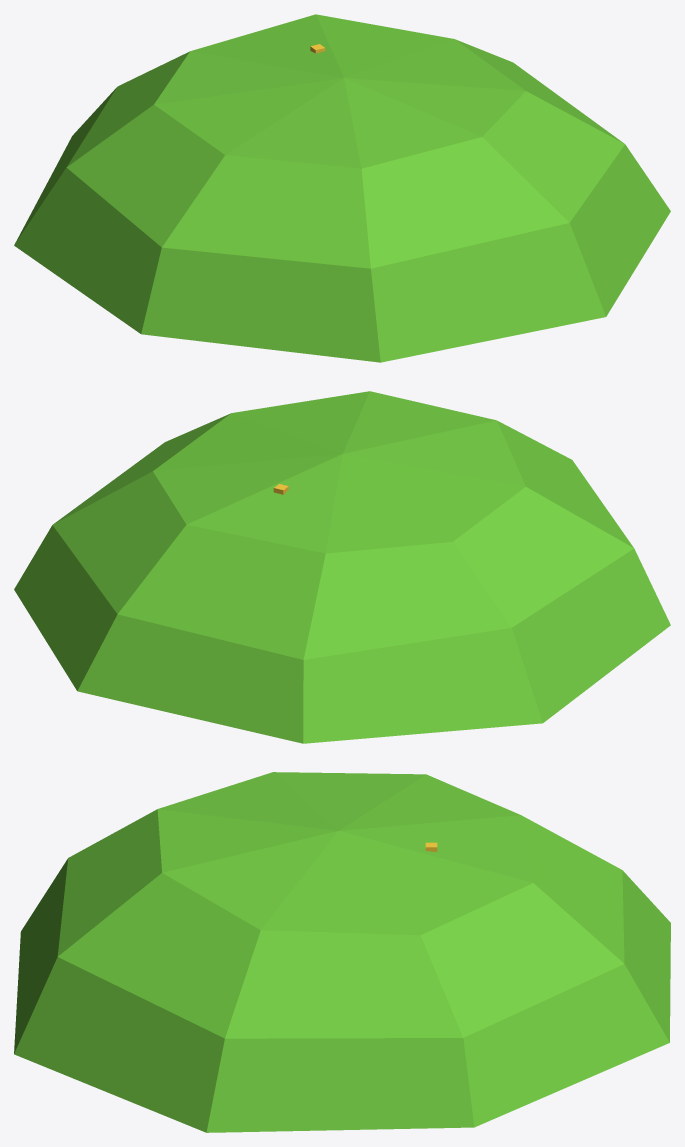
Rendered from GrassHill.fbx.
3 views of the same model, one above another, from view 1: azimuth 30°, elevation 25°; view 2: azimuth 150°, elevation 25°; view 3: azimuth 270°, elevation 25° (orthographic). The views are drawn at different scales.
Parts seen in each view (by area): view 1: GrassHill; view 2: GrassHill; view 3: GrassHill.
Part boxes in pixels (x1,y1,x2,y2): GrassHill: [14, 14, 670, 362]; GrassHill: [14, 391, 670, 743]; GrassHill: [14, 772, 670, 1132].
Bounding box in the file's own units: 11.16 × 3.12 × 11.21.
1 material, 1 textured.
